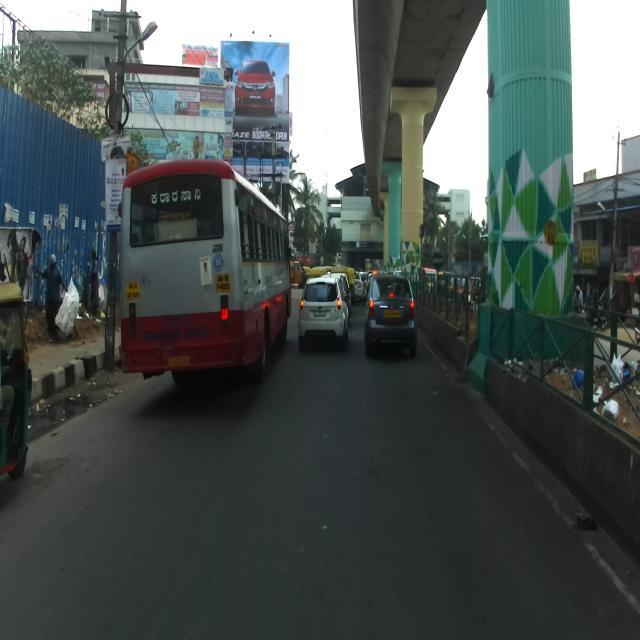bus ahead at: (111, 163, 296, 398)
car ahead at: (362, 273, 418, 351), (300, 265, 344, 339)
